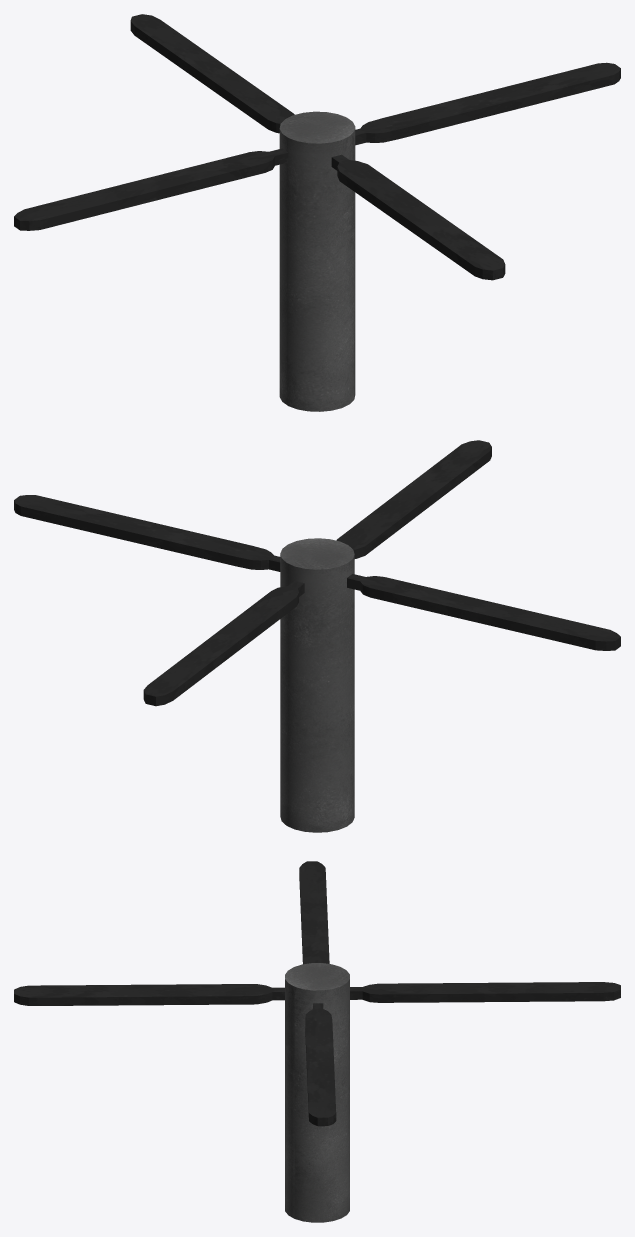
Rendered from drone_bladeshaft.fbx.
The picture shows the model from 3 angles, top to bottom: view 1: azimuth 30°, elevation 25°; view 2: azimuth 150°, elevation 25°; view 3: azimuth 270°, elevation 25°; orthographic projection. The views are drawn at different scales.
Visible parts, largest first — view 1: pCylinder2; view 2: pCylinder2; view 3: pCylinder2.
Boxes of the visible parts, x1,y1,x2,y2 form: pCylinder2: (14, 14, 620, 411); pCylinder2: (14, 440, 620, 832); pCylinder2: (14, 861, 620, 1222).
Size of the model in its own units: 6.72 by 2.84 by 6.72.
2 materials, 2 textured.
